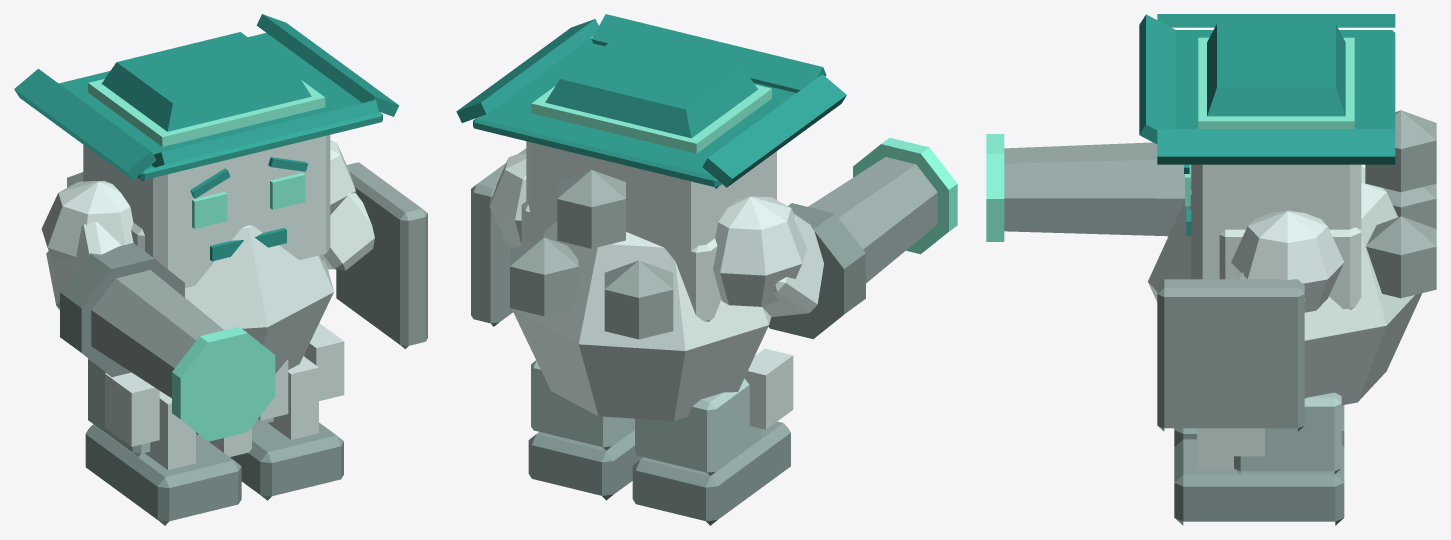
Rendered from r14_mini_ghost_gunner.glb.
The picture shows the model from 3 angles, left to right: view 1: azimuth 30°, elevation 25°; view 2: azimuth 150°, elevation 25°; view 3: azimuth 270°, elevation 25°; orthographic projection. The views are drawn at different scales.
Parts seen in each view (by area): view 1: r14_mini_ghost_gunner_mesh; view 2: r14_mini_ghost_gunner_mesh; view 3: r14_mini_ghost_gunner_mesh.
Boxes of the visible parts, <box> form: r14_mini_ghost_gunner_mesh: <box>14,14,427,525</box>; r14_mini_ghost_gunner_mesh: <box>456,14,957,525</box>; r14_mini_ghost_gunner_mesh: <box>986,14,1436,525</box>.
Bounding box in the file's own units: 3.3 × 3.8 × 3.64.
1 material, 1 textured.
